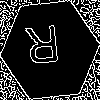R: (25, 25, 62, 74)
